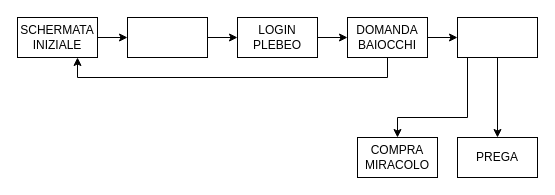
This 555x195 diagram has some shape labels left out. Here are the shapes that lost their labels. From the top down, the box of each, then its label:
(126, 16, 208, 58): LOGIN SACERDOTE
(456, 16, 538, 58): MAIN
